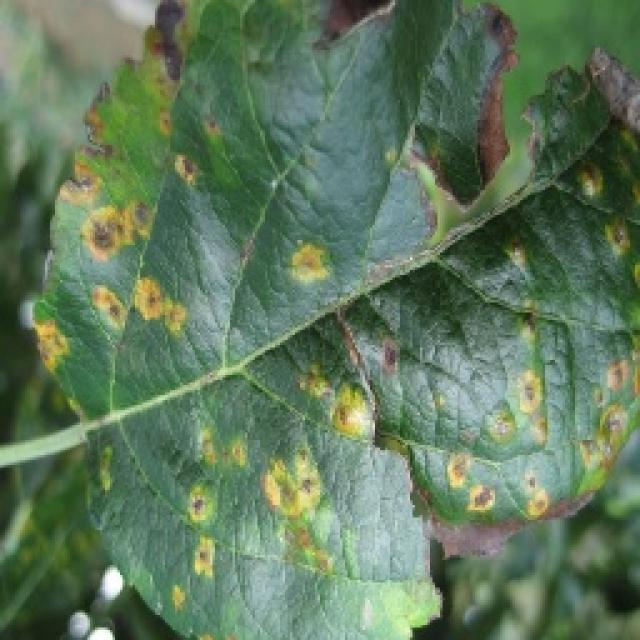Gymnosporangium_Rusts: (25, 0, 637, 638)
